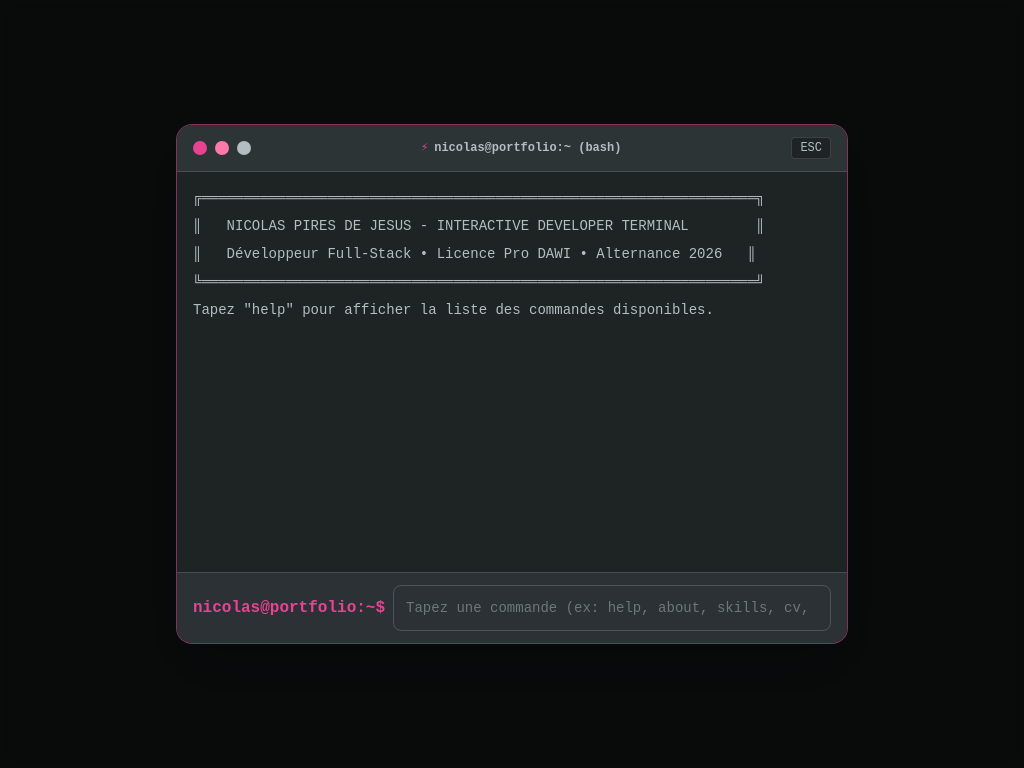
DeveloperTerminal executes clear command
This screenshot has width=1024, height=768.
In the field with placeholder "Tapez une commande (ex: help, about, skills, cv, lang)...": (612, 608) [393,585,831,631], type "clear"
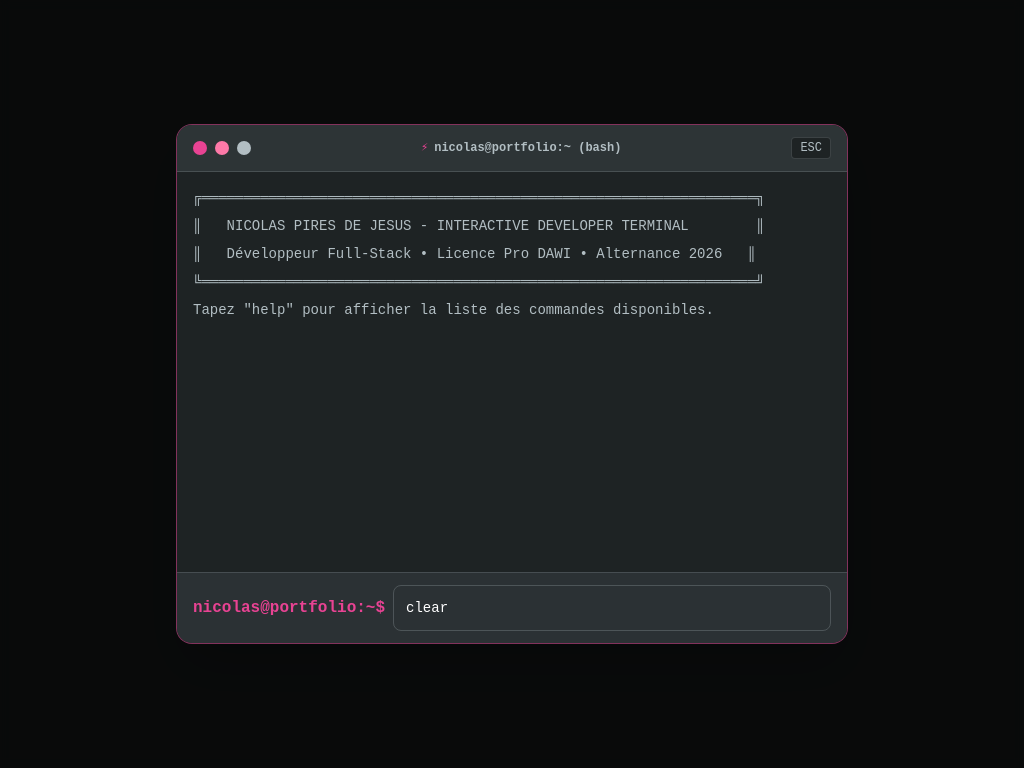
Press Enter in the field with placeholder "Tapez une commande (ex: help, about, skills, cv, lang)...", box [393,585,831,631]
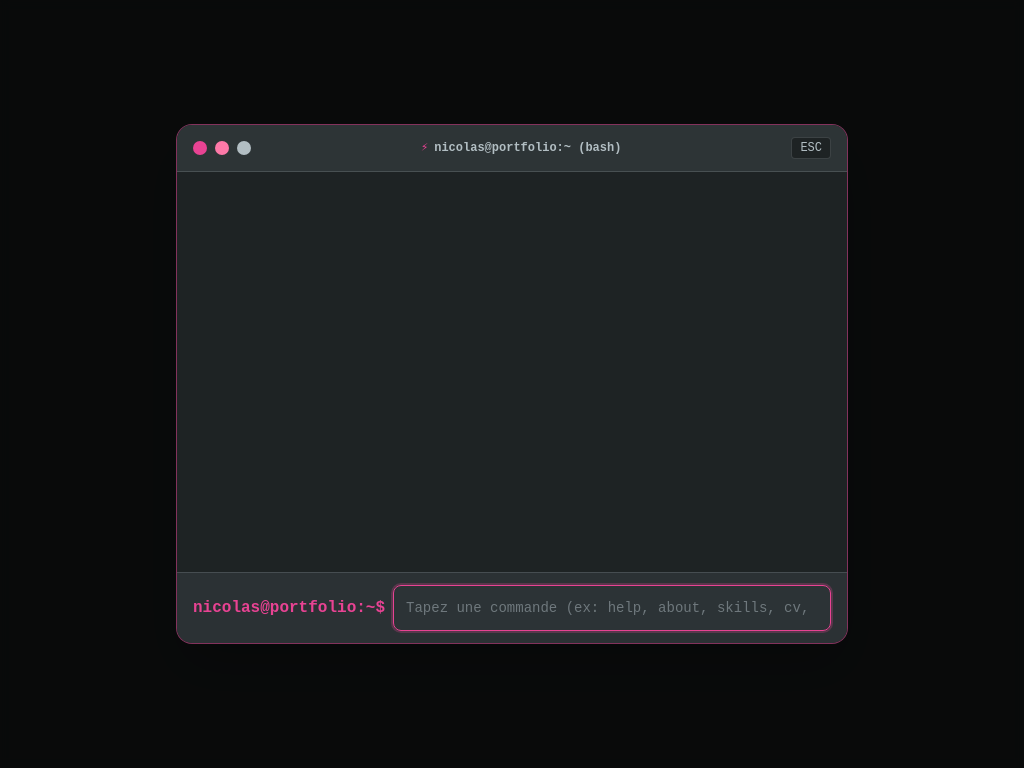
Check: the text "NICOLAS PIRES DE JESUS - INTERACTIVE DEVELOPER TERMINAL" is gone
